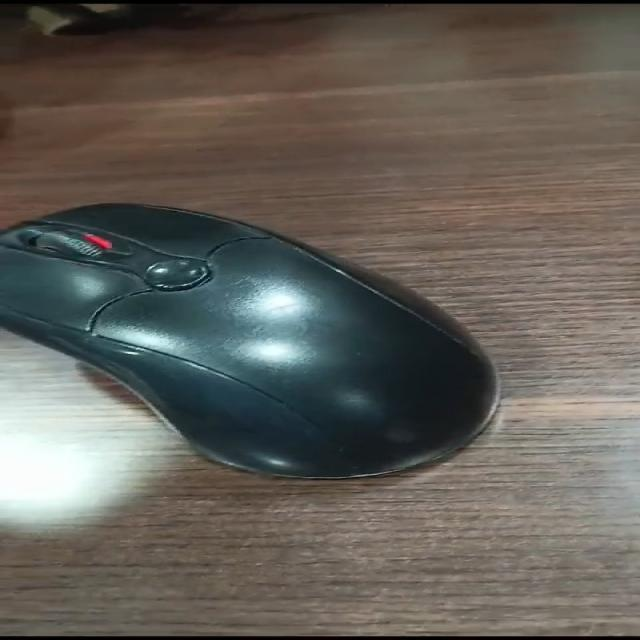Mouse: (0, 171, 569, 508), (14, 129, 19, 150)
